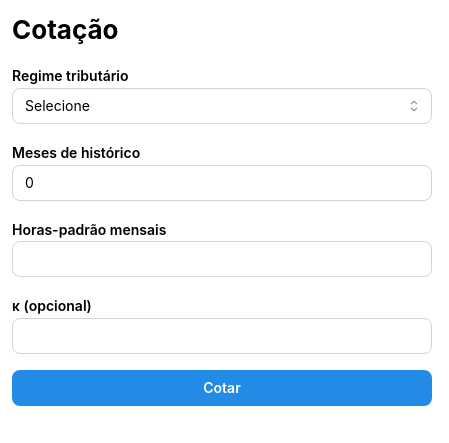
cotação › com histórico, exige as horas-padrão
Select "Lucro Presumido" in the dropdown labelled "Regime tributário" at (222, 106), box [12,88,432,124]
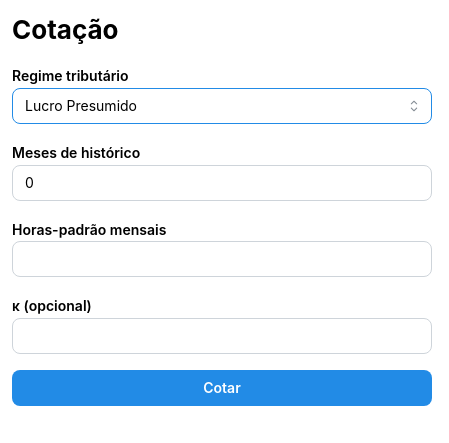
Replace the text in the field labelled "Meses de histórico" with "4" at (222, 183), box [12,165,432,201]
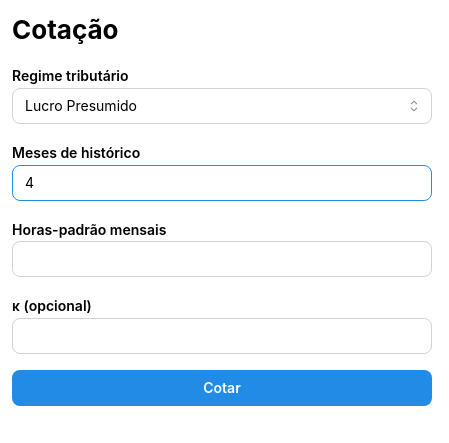
Click the button "Cotar" at (222, 388), box [12,370,432,406]
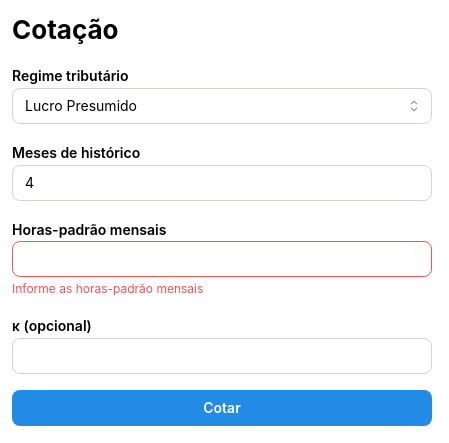
expect the text "Informe as horas-padrão mensais" is shown: met, box [12,282,203,296]
